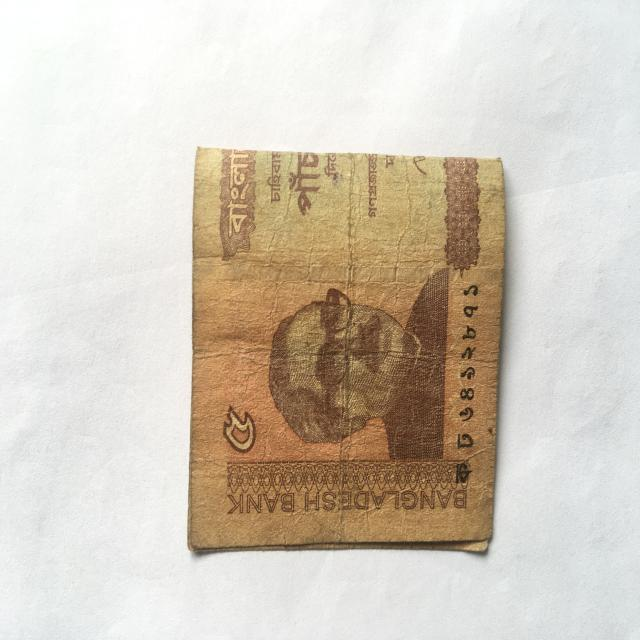Taka: (191, 140, 497, 556)
